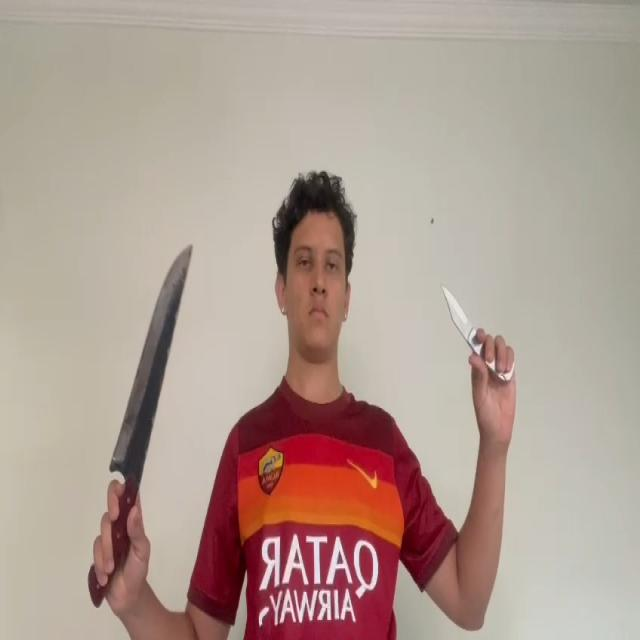knife: (108, 245, 193, 478), (441, 284, 473, 340)
